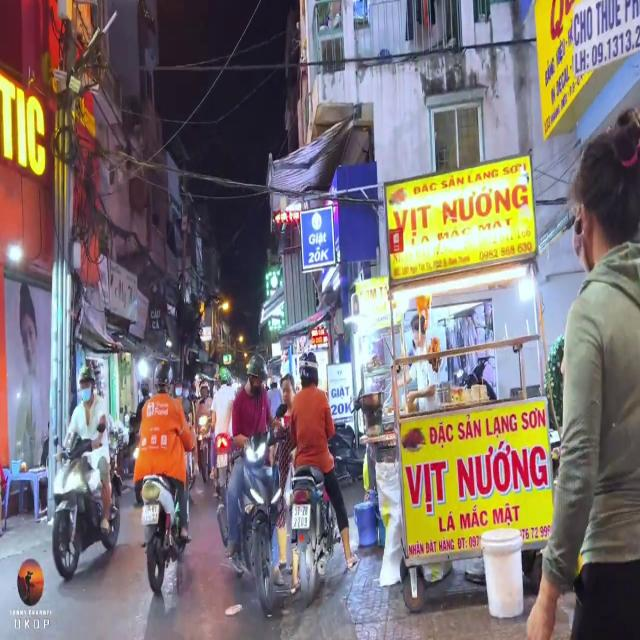bien_trang: (291, 498, 314, 530)
